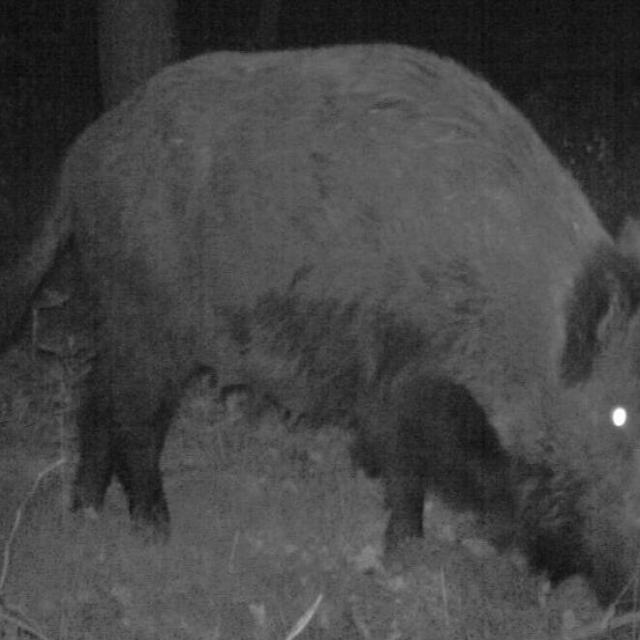pig: (31, 30, 640, 618)
